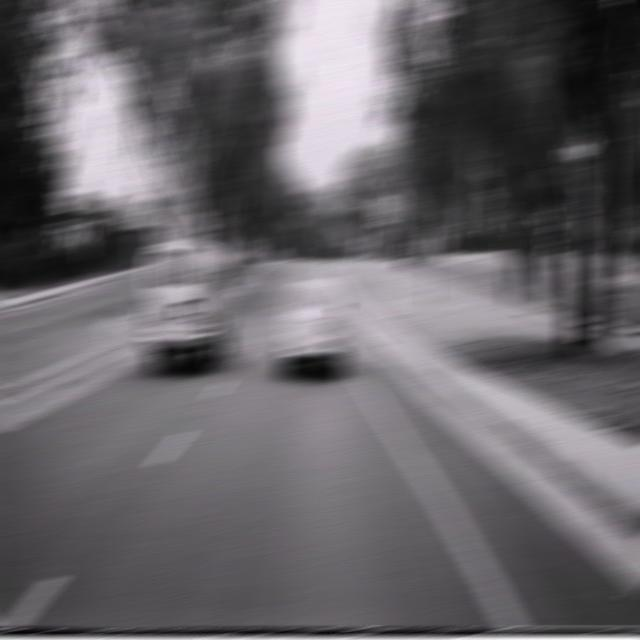speedLimit45: (371, 194, 393, 225)
